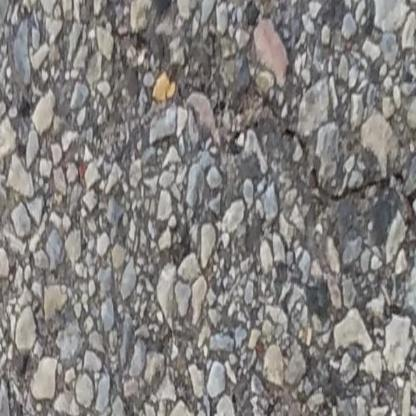Cracks: (44, 0, 416, 237), (0, 0, 31, 17)
